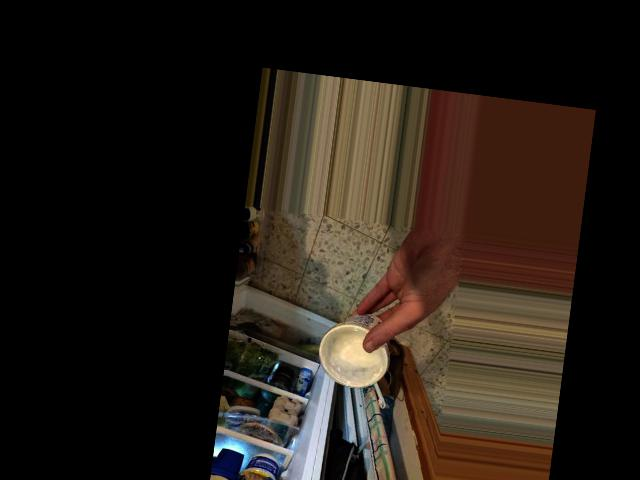cotage: (322, 303, 400, 396)
